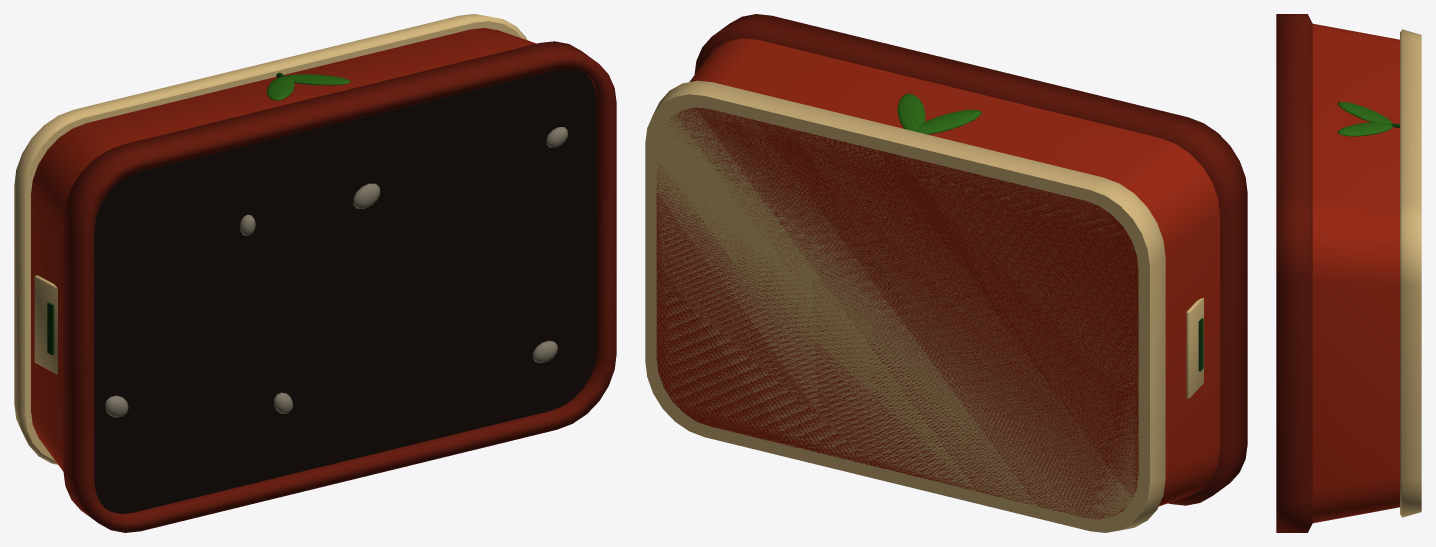
The model's file is chassis.obj.
3 renders of one model, left to right at view 1: azimuth 30°, elevation 25°; view 2: azimuth 150°, elevation 25°; view 3: azimuth 270°, elevation 25°, orthographic. The views are drawn at different scales.
Parts seen in each view (by area): view 1: chassis; view 2: chassis; view 3: chassis.
Part boxes in pixels (x1,y1,x2,y2): chassis: (14,14,616,532); chassis: (645,14,1247,532); chassis: (1276,14,1421,532).
Size of the model in its own units: 0.45 by 0.3 by 0.12.
